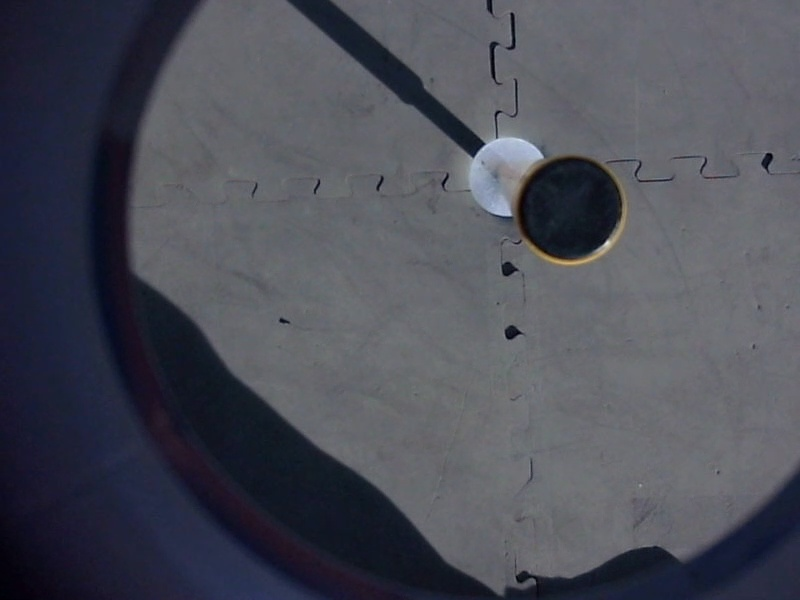tip: (510, 148, 629, 269)
